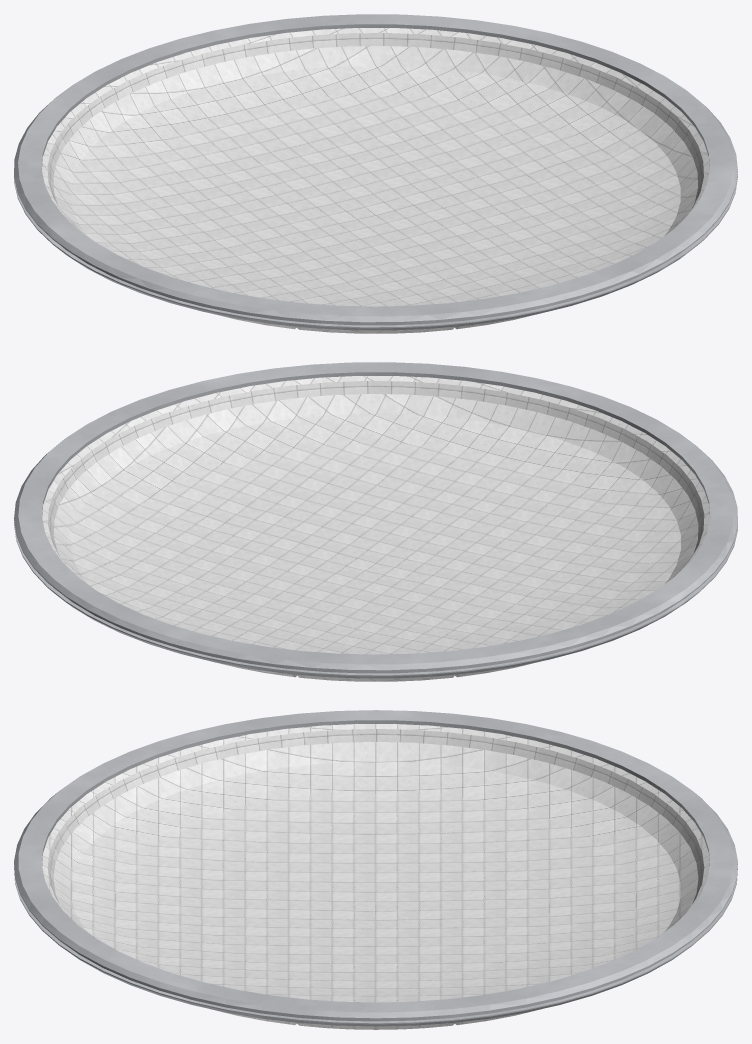
Rendered from ax_cmd_15_heat_shield_xl.glb.
3 views of the same model, one above another, from view 1: azimuth 30°, elevation 25°; view 2: azimuth 150°, elevation 25°; view 3: azimuth 270°, elevation 25° (orthographic).
Parts seen in each view (by area): view 1: ablator_dish, carrier_ring; view 2: ablator_dish, carrier_ring; view 3: ablator_dish, carrier_ring.
Part boxes in pixels (x1,y1,x2,y2): ablator_dish: (42, 28, 709, 333); carrier_ring: (14, 14, 737, 330); ablator_dish: (42, 376, 709, 681); carrier_ring: (14, 362, 737, 678); ablator_dish: (42, 723, 709, 1029); carrier_ring: (14, 710, 737, 1026).
Size of the model in its own units: 5 by 0.4617 by 5.
2 materials, 2 textured.
